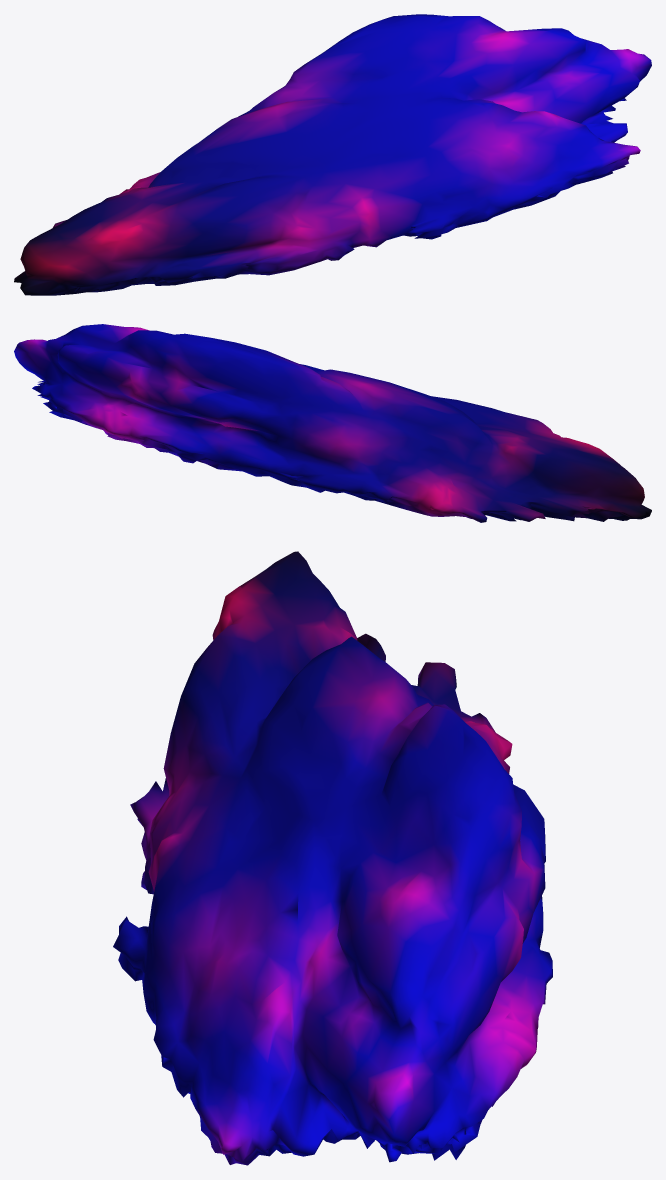
The model's file is tin_vein-u6-cold-lod0.gltf.
3 views of the same model, one above another, from view 1: azimuth 30°, elevation 25°; view 2: azimuth 150°, elevation 25°; view 3: azimuth 270°, elevation 25° (orthographic). The views are drawn at different scales.
Visible parts, largest first — view 1: tin_vein-u6-cold-lod0; view 2: tin_vein-u6-cold-lod0; view 3: tin_vein-u6-cold-lod0.
Part boxes in pixels (x1,y1,x2,y2): tin_vein-u6-cold-lod0: (14,14,651,295); tin_vein-u6-cold-lod0: (14,324,651,522); tin_vein-u6-cold-lod0: (113,551,552,1165).
Bounding box in the file's own units: 2.48 × 0.4884 × 0.7776.
